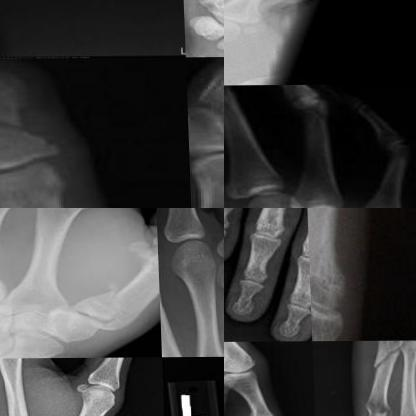fracture: (64, 283, 136, 332), (186, 84, 223, 137), (368, 341, 405, 376)
